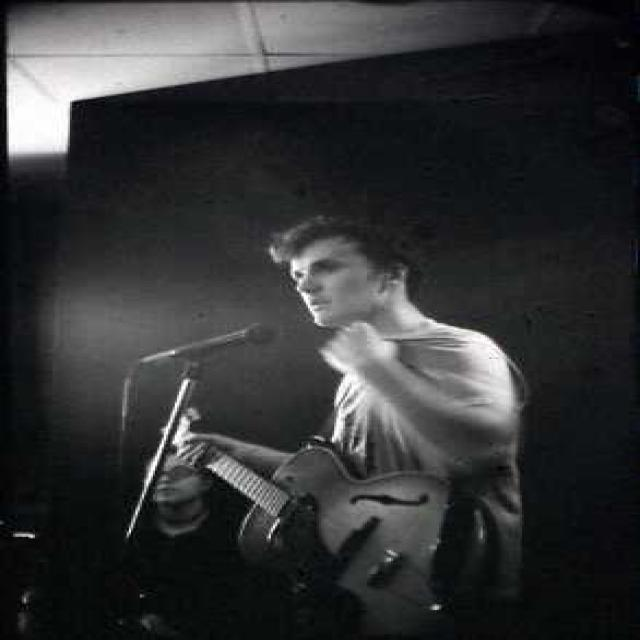microphone: (136, 318, 293, 364)
